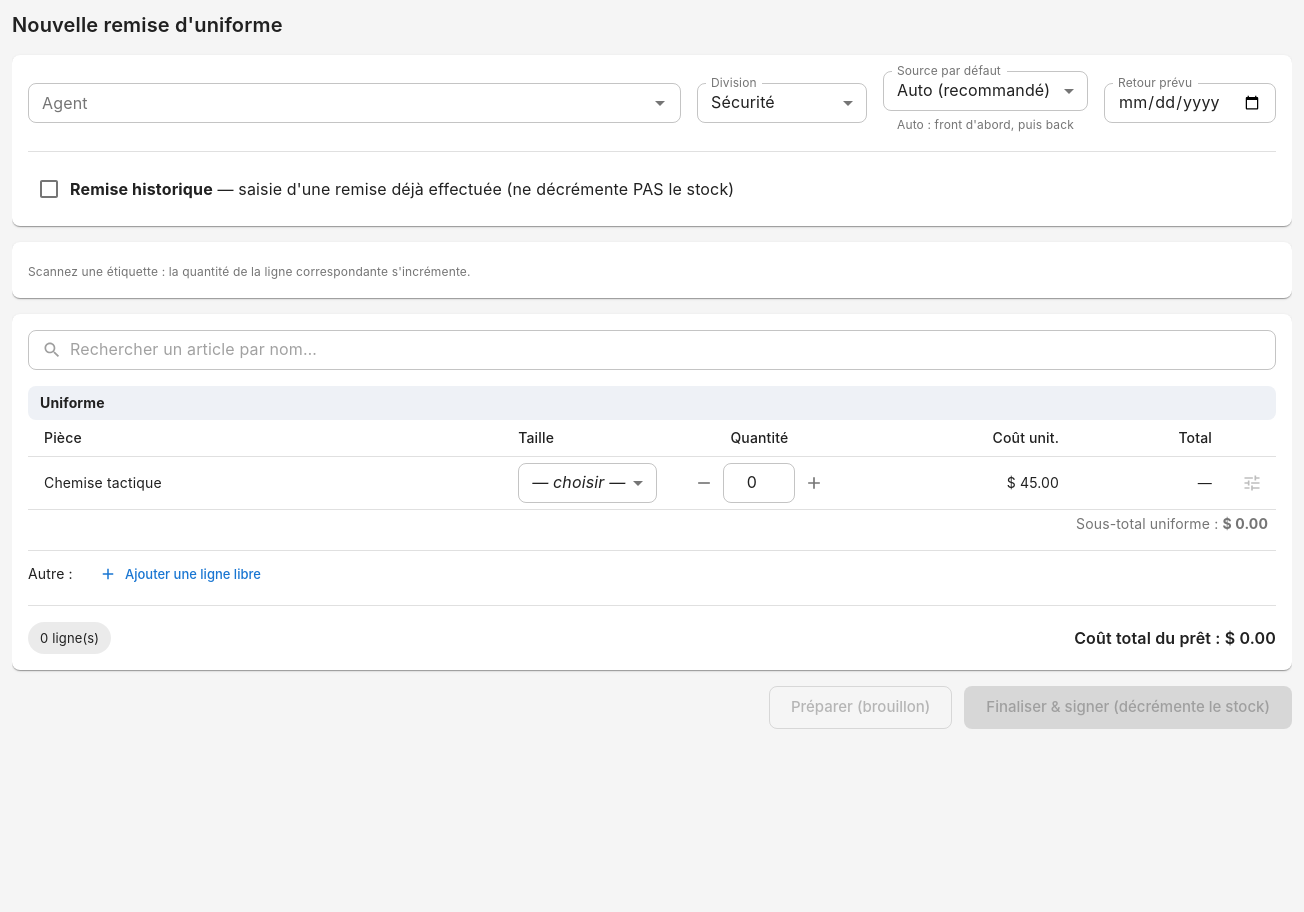
Test case: UniformIssuanceWizardPage › affiche le total du prêt et le compteur de lignes après ajout d'une quantité
Expected: the text "Chemise tactique" is shown, [44,474,162,490]
# Le stepper « + » incrémente la quantité de la ligne (cible la 1re variante stockée).
Click the 3rd button at (814, 482), box [799,468,829,498]
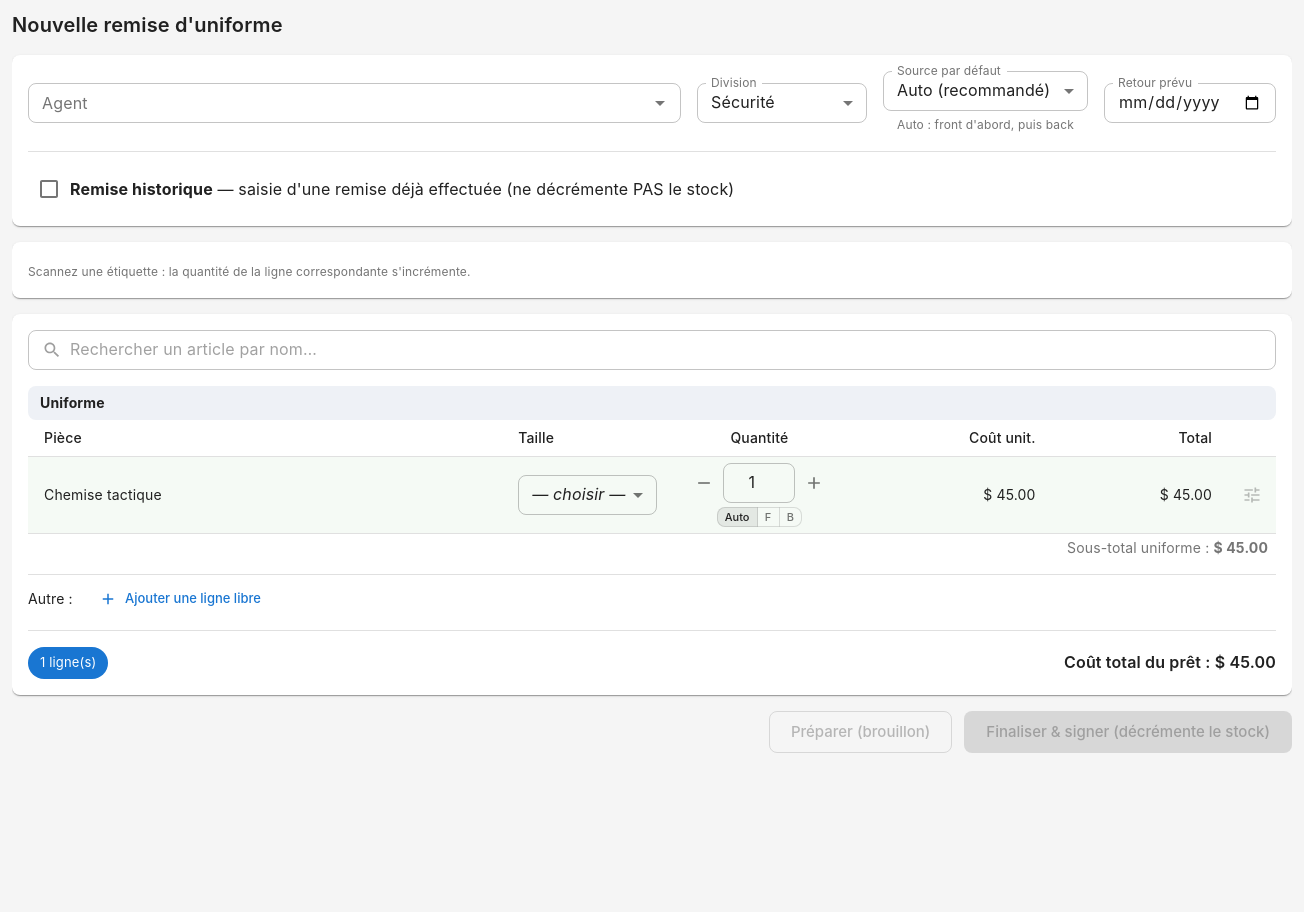
Expected: the heading "Coût total du prêt : $ 45.00" is shown, [1064,650,1276,676]
Expected: the text "1 ligne(s)" is shown, [40,654,96,670]
